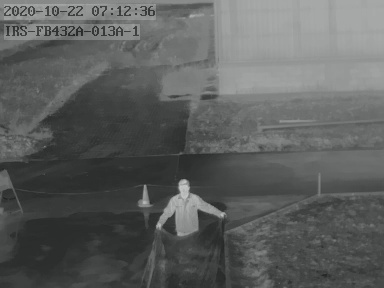person: (156, 179, 220, 233)
